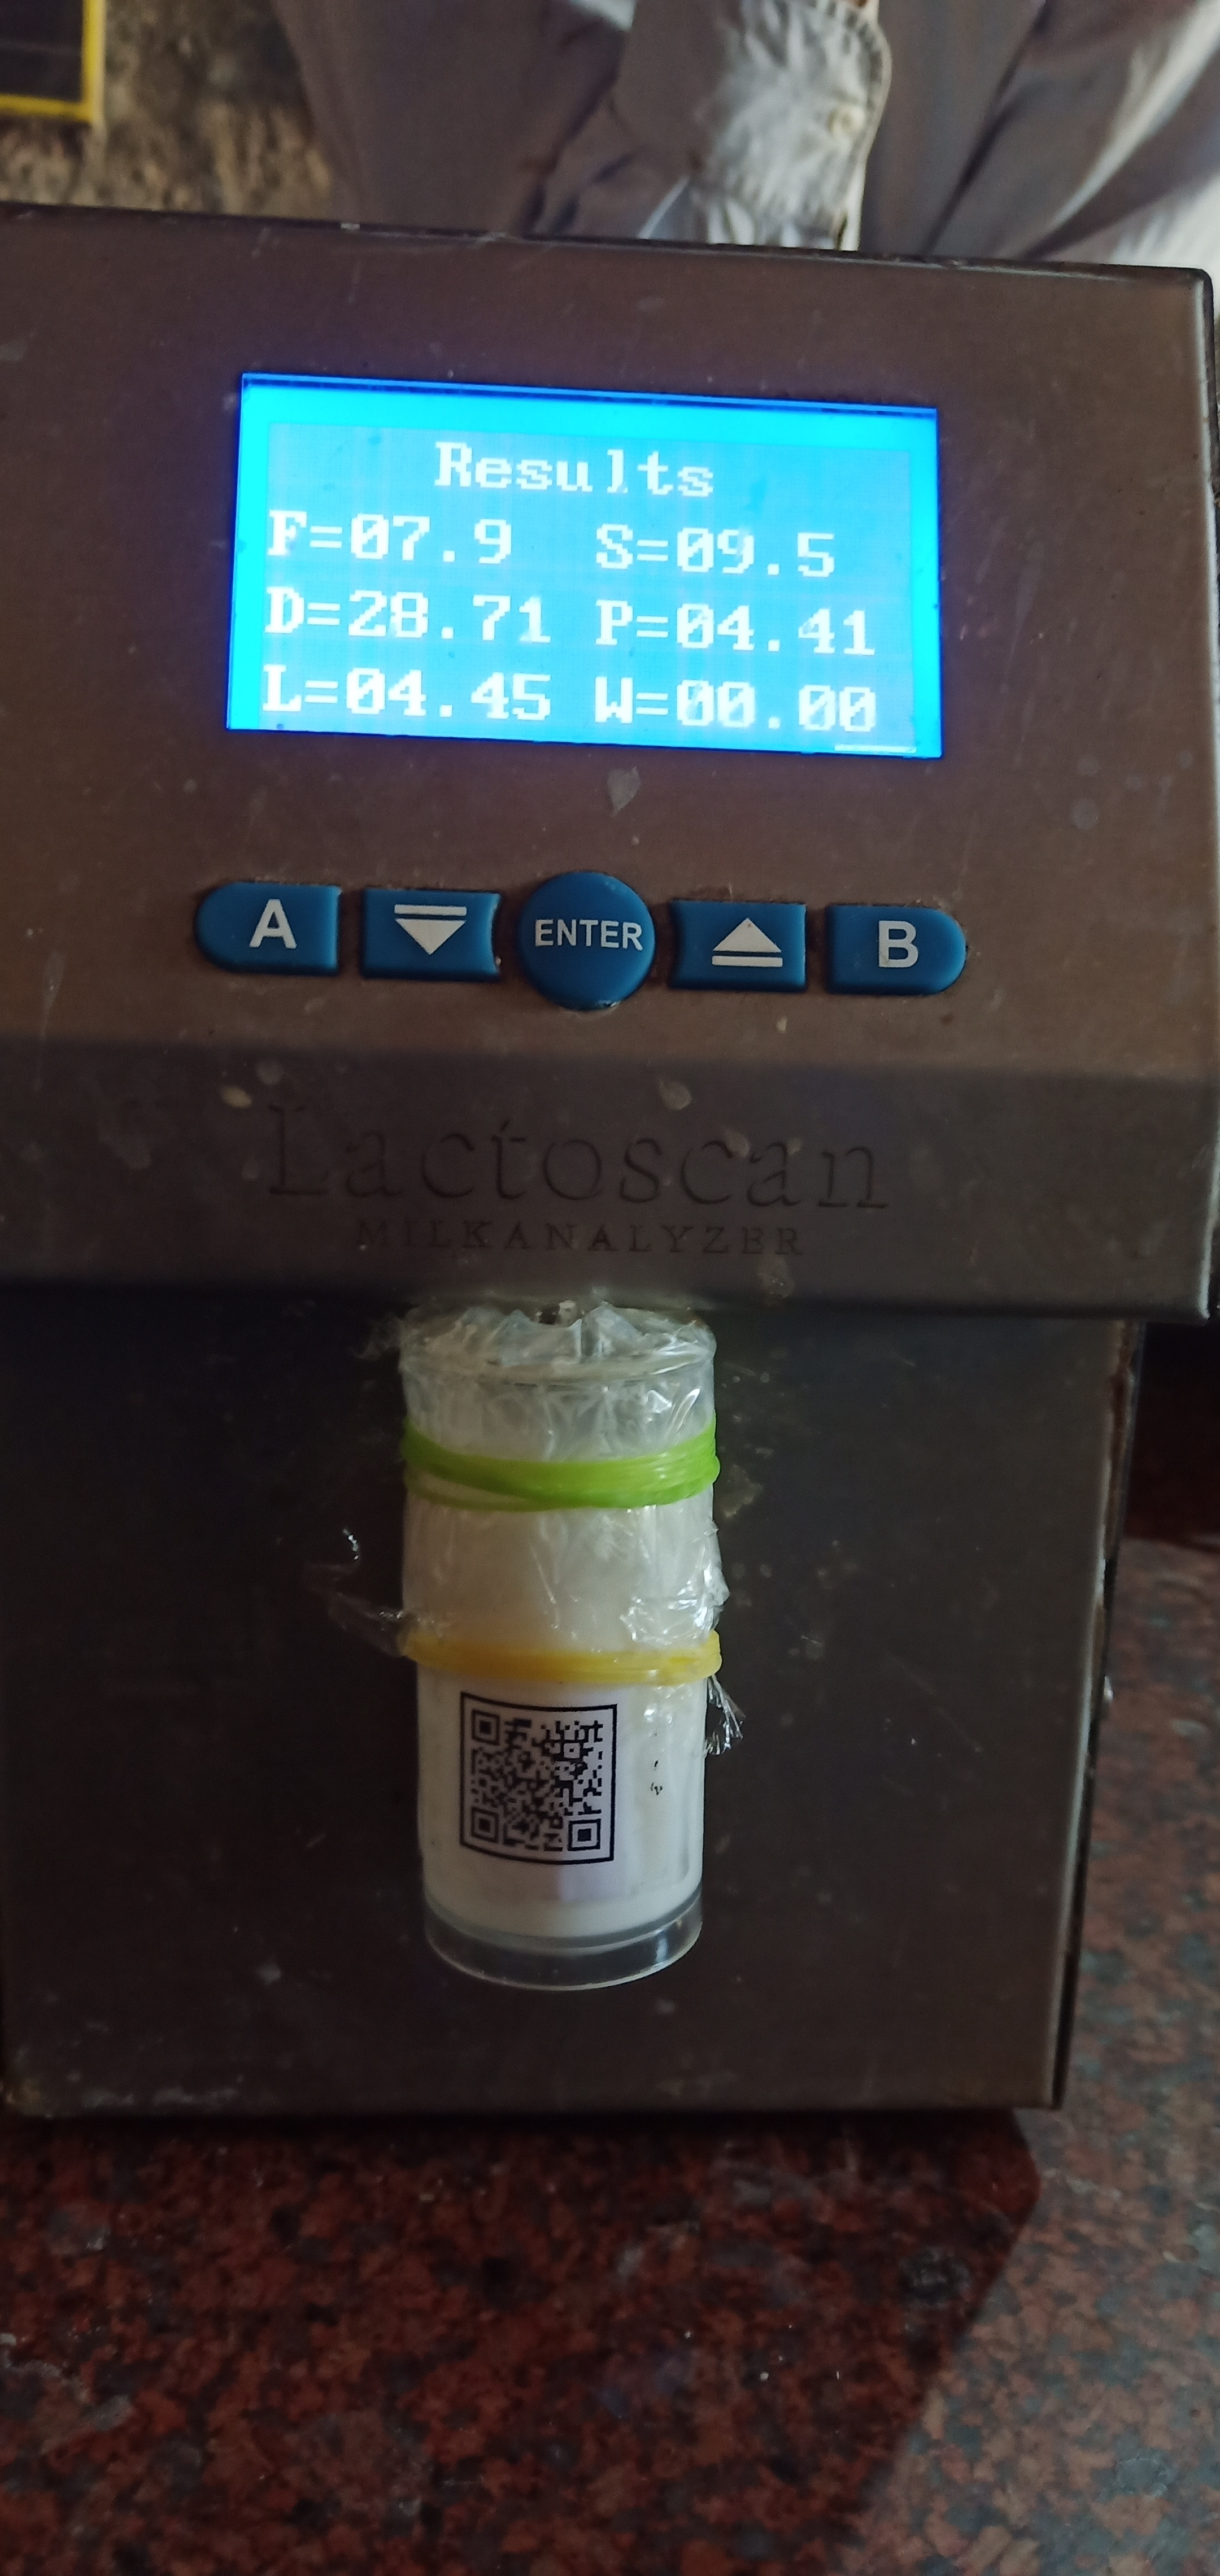lcd: (212, 368, 979, 800)
qr: (438, 1692, 649, 1897)
